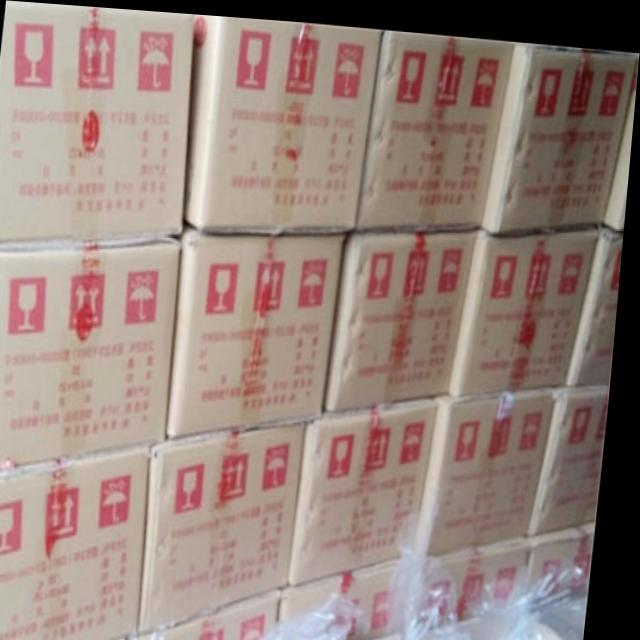box: (0, 0, 193, 240), (0, 233, 181, 472), (188, 11, 381, 223), (174, 218, 349, 438), (152, 415, 312, 627), (0, 443, 159, 640), (361, 23, 516, 223), (483, 33, 637, 223), (297, 385, 443, 578), (330, 222, 479, 408), (456, 215, 602, 389), (422, 379, 563, 547), (536, 373, 615, 527), (424, 525, 539, 624), (291, 550, 413, 634), (571, 214, 627, 377), (138, 584, 290, 640), (606, 43, 640, 222), (531, 510, 603, 592)
